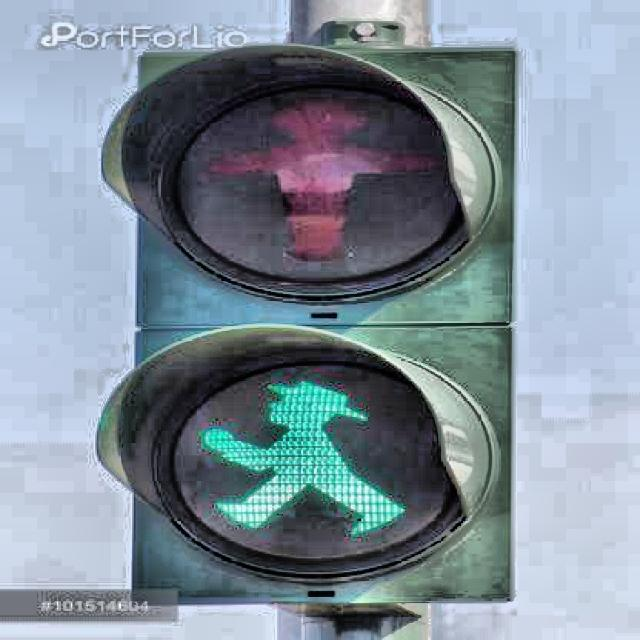semaforo pedestre: (73, 17, 579, 632)
